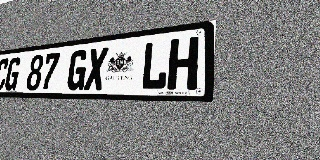7: (39, 52, 60, 90)
8: (25, 54, 45, 90)
C: (0, 58, 10, 90)
G: (65, 49, 89, 90), (3, 57, 22, 90)
H: (167, 36, 199, 90)
L: (140, 40, 170, 90)
X: (84, 47, 109, 90)
